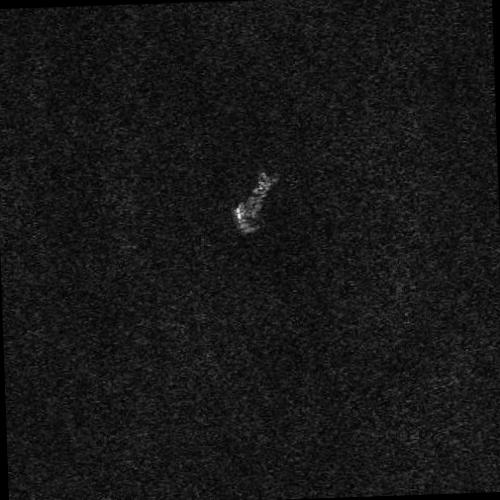ship: (234, 170, 275, 234)
